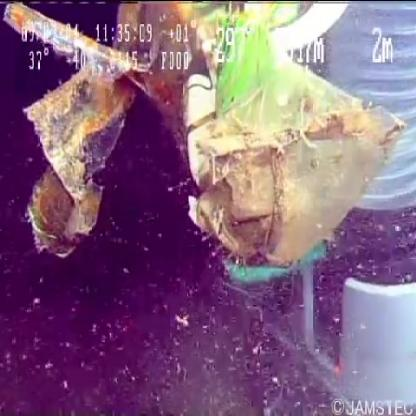Rác: (5, 5, 412, 280)
